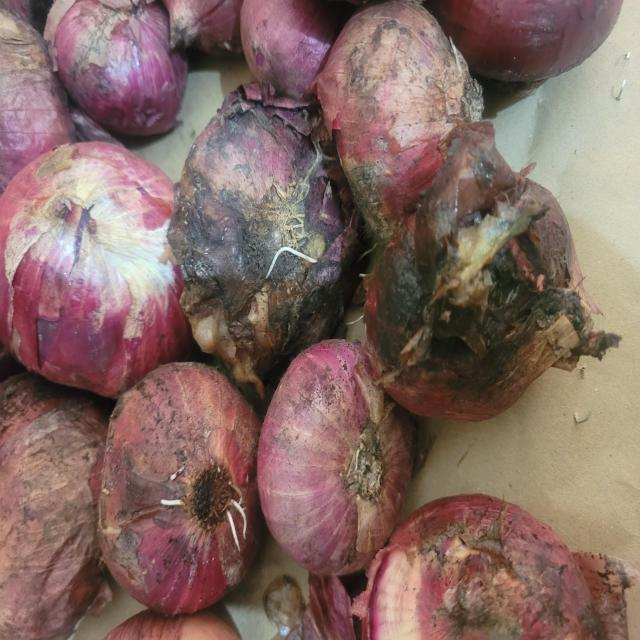mould: (0, 142, 191, 397), (257, 339, 416, 575)
rotten: (363, 122, 620, 420), (168, 84, 361, 397), (98, 363, 264, 614), (315, 0, 483, 241), (352, 494, 628, 640), (0, 373, 110, 640), (44, 0, 187, 135), (0, 9, 75, 194)
